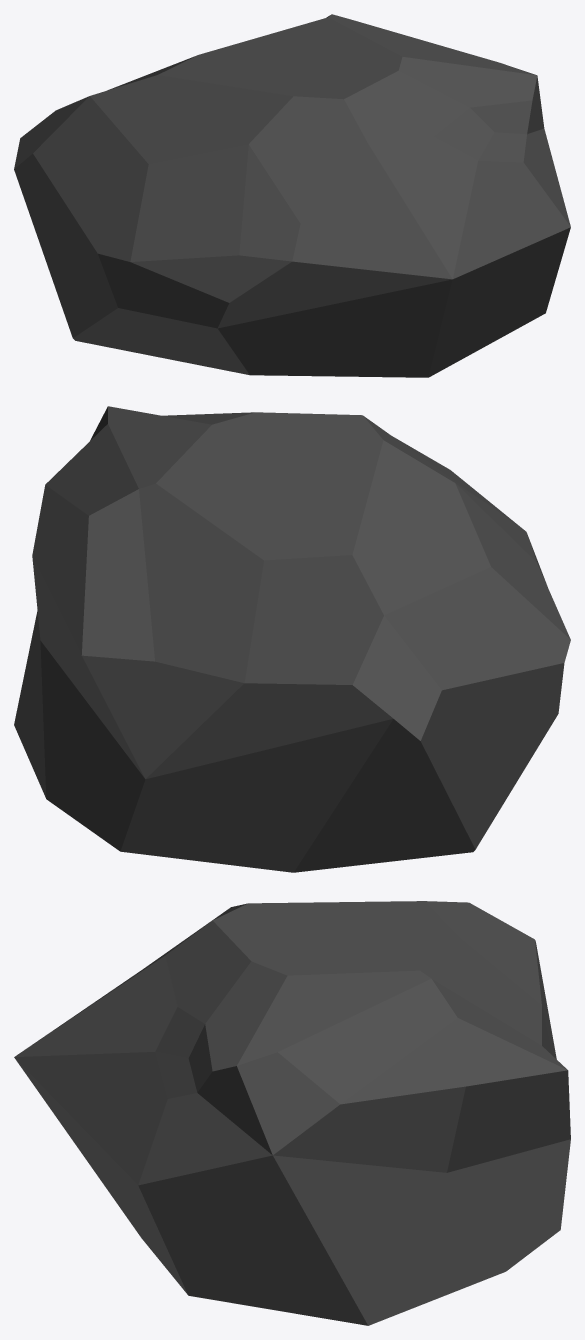
Rendered from Rock_05.fbx.
The picture shows the model from 3 angles, top to bottom: view 1: azimuth 30°, elevation 25°; view 2: azimuth 150°, elevation 25°; view 3: azimuth 270°, elevation 25°; orthographic projection. The views are drawn at different scales.
Parts seen in each view (by area): view 1: Rock_05; view 2: Rock_05; view 3: Rock_05.
Part boxes in pixels (box(x1,y1,x2,y2)): Rock_05: box(14, 14, 570, 377); Rock_05: box(14, 406, 570, 872); Rock_05: box(14, 901, 570, 1325).
Size of the model in its own units: 84.76 by 52.94 by 86.23.
